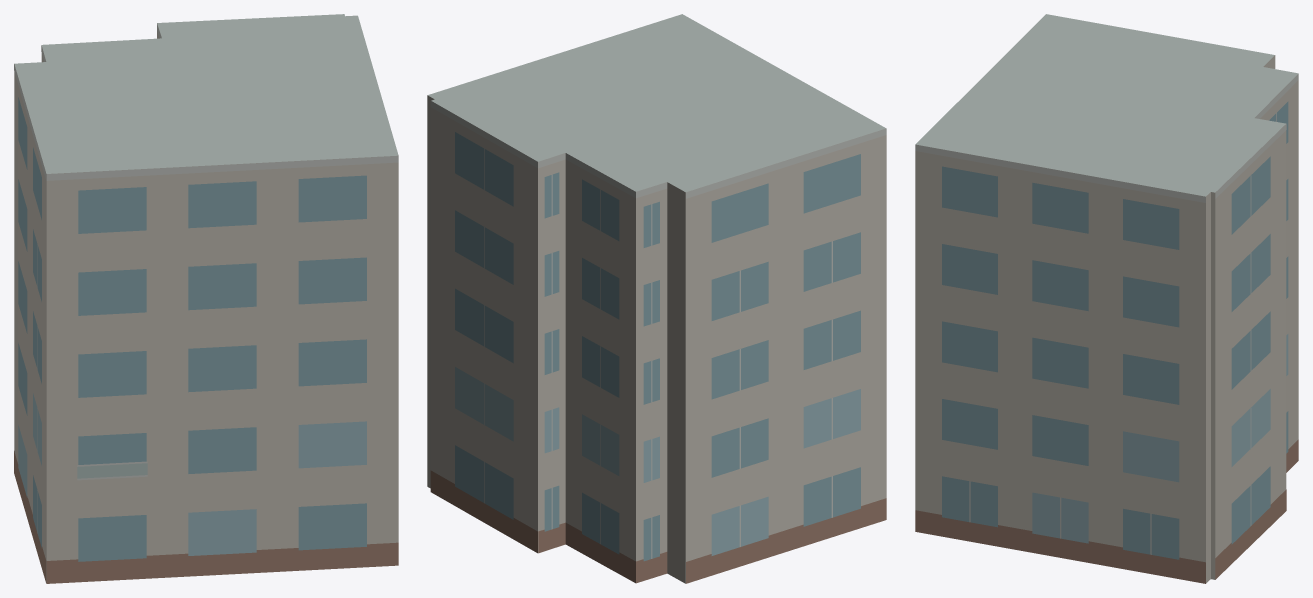
The model's file is survey-upis-32527734.glb.
The picture shows the model from 3 angles, left to right: view 1: azimuth 30°, elevation 25°; view 2: azimuth 150°, elevation 25°; view 3: azimuth 270°, elevation 25°; orthographic projection. The views are drawn at different scales.
Visible parts, largest first — view 1: survey-upis-32527734.tmp; view 2: survey-upis-32527734.tmp; view 3: survey-upis-32527734.tmp.
Boxes of the visible parts, <box> form: survey-upis-32527734.tmp: <box>14,14,398,583</box>; survey-upis-32527734.tmp: <box>427,14,886,583</box>; survey-upis-32527734.tmp: <box>915,14,1298,583</box>.
Bounding box in the file's own units: 14.77 × 14.6 × 13.11.
